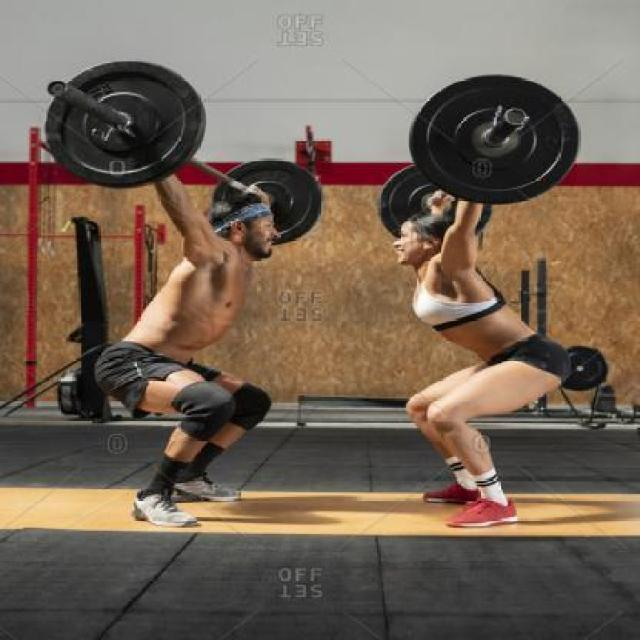barbell: (407, 73, 583, 210), (47, 58, 208, 191)
